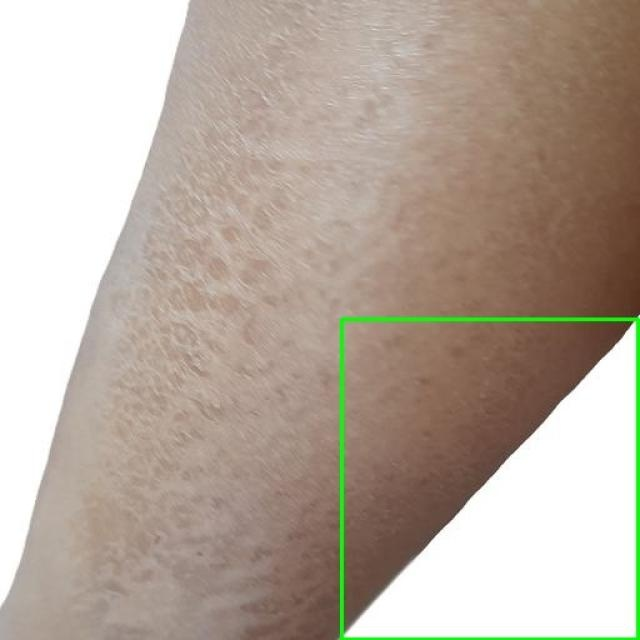Contact Dermatitis: (342, 319, 639, 639)
